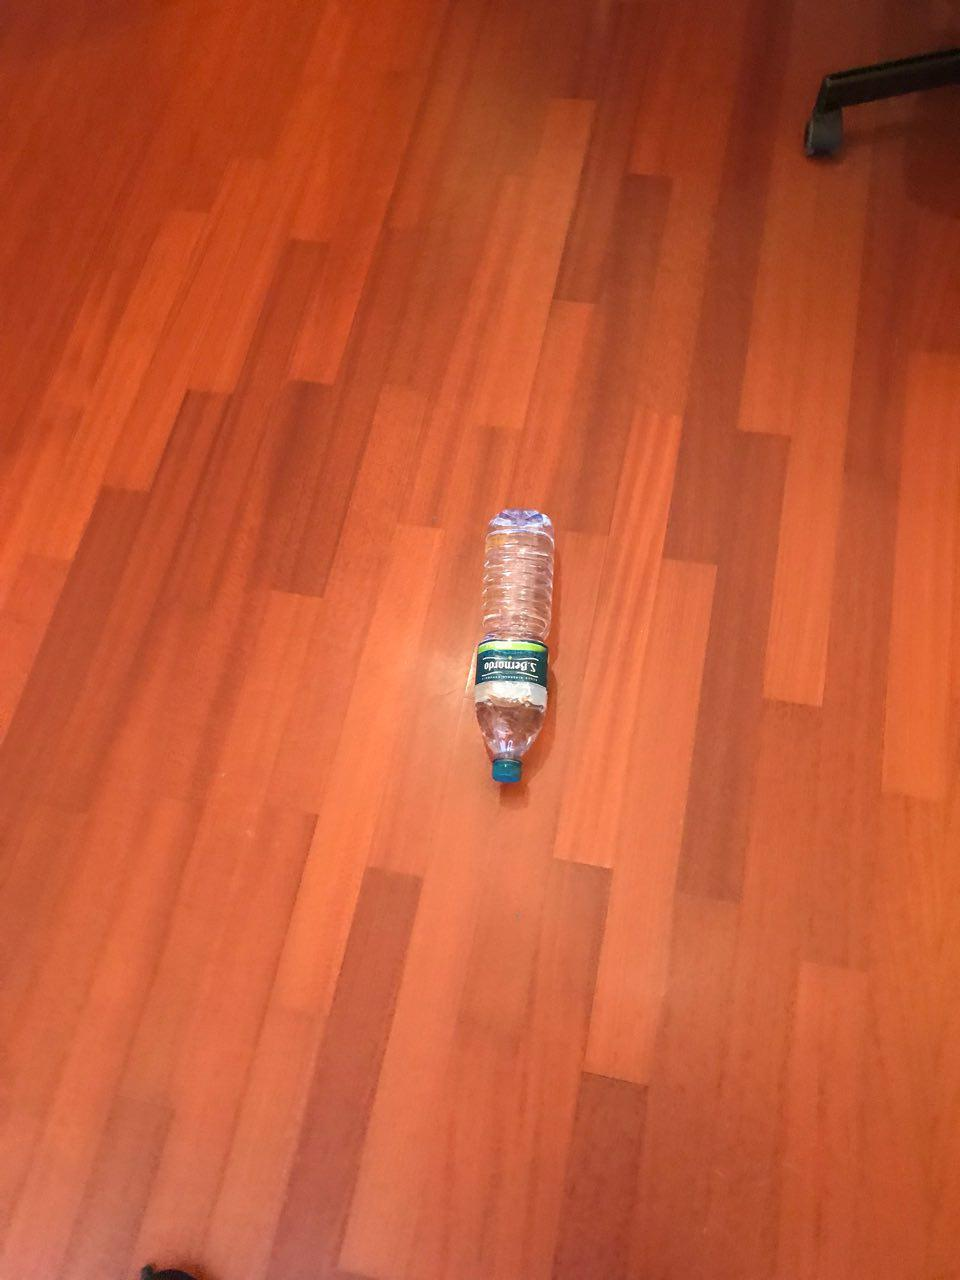san_bernardo: (474, 510, 556, 783)
